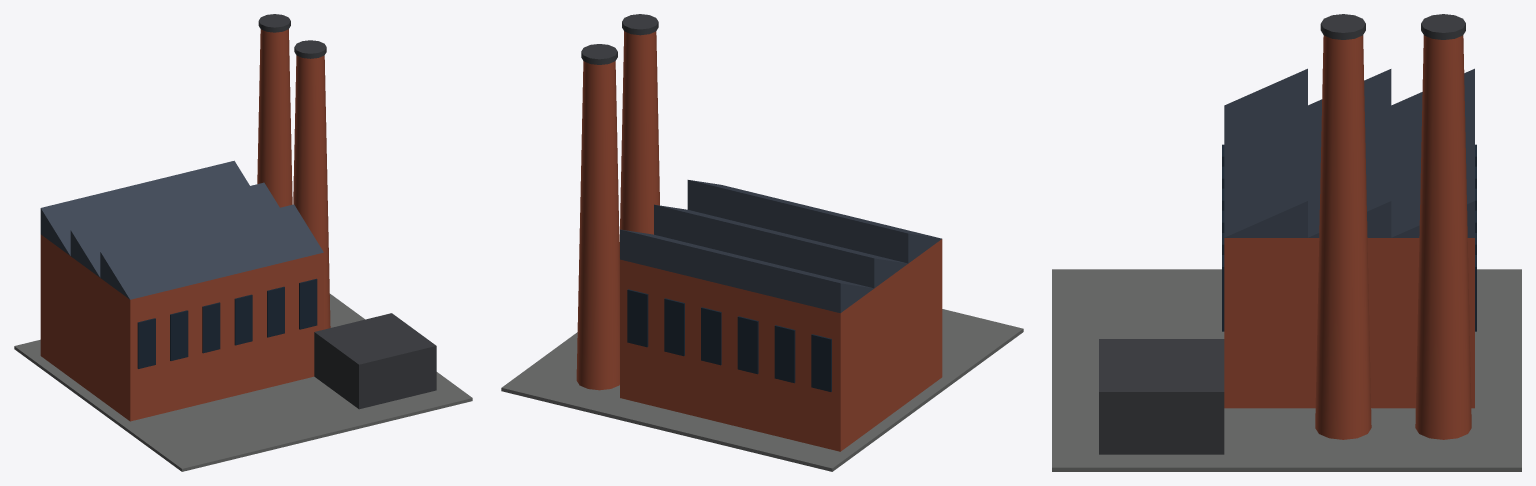
File: bld_special_power_plant_a05.glb
3 views of the same model, side by side, from view 1: azimuth 30°, elevation 25°; view 2: azimuth 150°, elevation 25°; view 3: azimuth 270°, elevation 25° (orthographic). The views are drawn at different scales.
Parts seen in each view (by area): view 1: body; view 2: body; view 3: body.
Boxes of the visible parts, x1,y1,x2,y2 form: body: (14, 14, 472, 471); body: (501, 14, 1023, 471); body: (1052, 14, 1521, 471).
Size of what is drawn, in the model's own units: 15 by 14.4 by 15.
